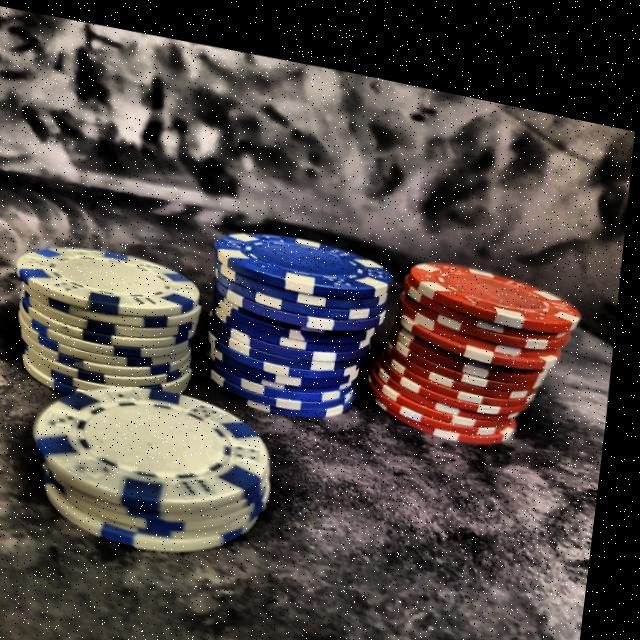Chip: (16, 346, 314, 583), (364, 202, 592, 456), (199, 179, 407, 433), (9, 209, 222, 414)
